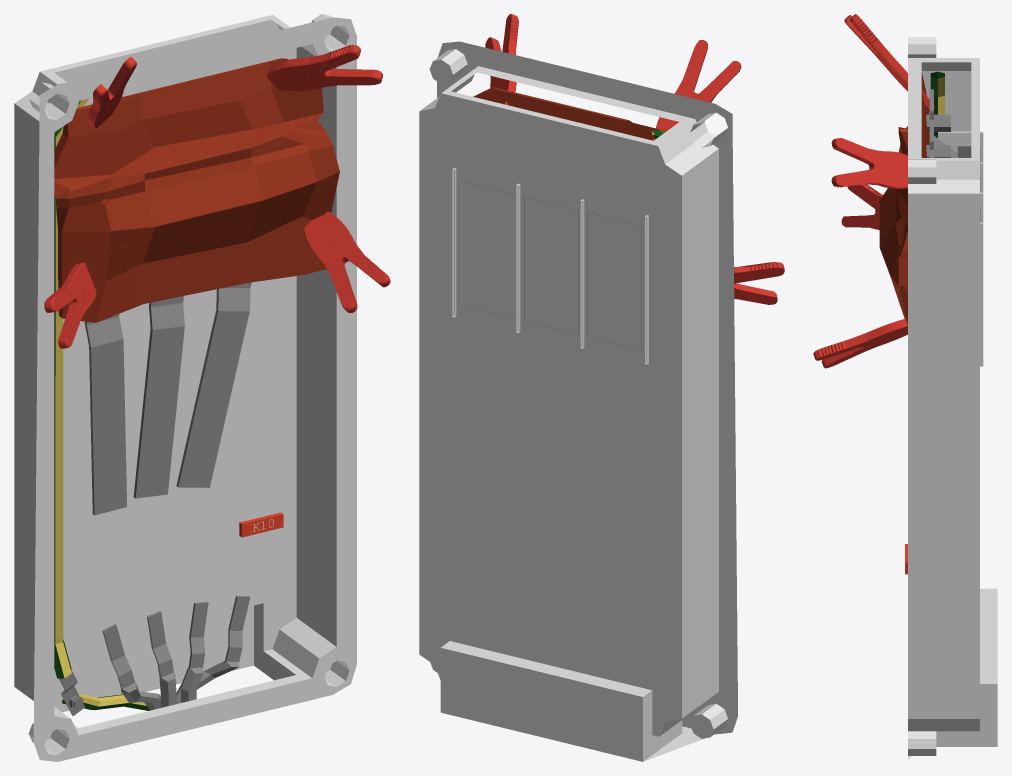
The model's file is Main-Distributor-V001-12-with-blanket 1.fbx.
3 views of the same model, side by side, from view 1: azimuth 30°, elevation 25°; view 2: azimuth 150°, elevation 25°; view 3: azimuth 270°, elevation 25° (orthographic). The views are drawn at different scales.
Parts seen in each view (by area): view 1: 000-box_Plane.006, Safety-blanket_CUBezierCurve.002, 07-cables_Cube.048, BezierCurve.003_CUBezierCurve.004, BezierCurve_CUBezierCurve, BezierCurve.002_CUBezierCurve.003, BezierCurve.001_CUBezierCurve.001, 007-box.001_Cylinder, tagname.K10_Plane.019; view 2: 000-box_Plane.006, Safety-blanket_CUBezierCurve.002, BezierCurve.001_CUBezierCurve.001, BezierCurve.002_CUBezierCurve.003, BezierCurve_CUBezierCurve; view 3: 000-box_Plane.006, Safety-blanket_CUBezierCurve.002, BezierCurve_CUBezierCurve, BezierCurve.003_CUBezierCurve.004, BezierCurve.001_CUBezierCurve.001, BezierCurve.002_CUBezierCurve.003.
Part boxes in pixels (x1,y1,x2,y2): 000-box_Plane.006: (14, 14, 356, 761); Safety-blanket_CUBezierCurve.002: (54, 58, 339, 322); 07-cables_Cube.048: (102, 595, 250, 710); BezierCurve.003_CUBezierCurve.004: (304, 211, 390, 312); BezierCurve_CUBezierCurve: (266, 45, 382, 91); BezierCurve.002_CUBezierCurve.003: (44, 262, 96, 348); BezierCurve.001_CUBezierCurve.001: (87, 57, 136, 128); 007-box.001_Cylinder: (62, 693, 149, 710); tagname.K10_Plane.019: (239, 512, 283, 537); 000-box_Plane.006: (419, 41, 737, 761); Safety-blanket_CUBezierCurve.002: (473, 87, 666, 140); BezierCurve.001_CUBezierCurve.001: (653, 40, 741, 140); BezierCurve.002_CUBezierCurve.003: (734, 262, 784, 304); BezierCurve_CUBezierCurve: (485, 14, 518, 105); 000-box_Plane.006: (908, 37, 997, 759); Safety-blanket_CUBezierCurve.002: (879, 72, 929, 324); BezierCurve_CUBezierCurve: (831, 138, 907, 188); BezierCurve.003_CUBezierCurve.004: (813, 319, 907, 368); BezierCurve.001_CUBezierCurve.001: (844, 14, 934, 111); BezierCurve.002_CUBezierCurve.003: (841, 184, 882, 230).
Size of the model in its own units: 212 by 426 by 110.
